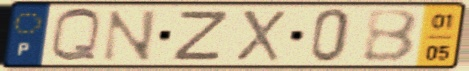0: (310, 7, 357, 65)
B: (360, 7, 422, 64)
N: (99, 8, 160, 63)
Q: (47, 6, 104, 65)
X: (233, 8, 288, 63)
Z: (168, 9, 233, 63)
